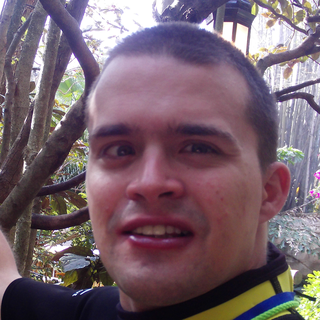eye: (176, 139, 228, 162), (100, 140, 142, 163)
